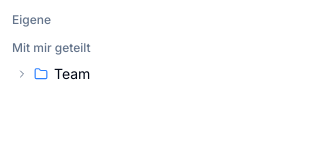
Test: <FileTree> › zeigt mount-unterordner statt einer dublette des mounts selbst
This screenshot has width=320, height=160.
Click the button named "Team erweitern": (22, 74) [14,66,30,82]
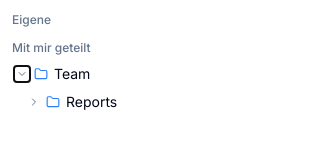
expect the text "Reports" is shown: met, box [66,92,117,112]
expect the text "Team" is shown once: met, box [54,64,90,84]
